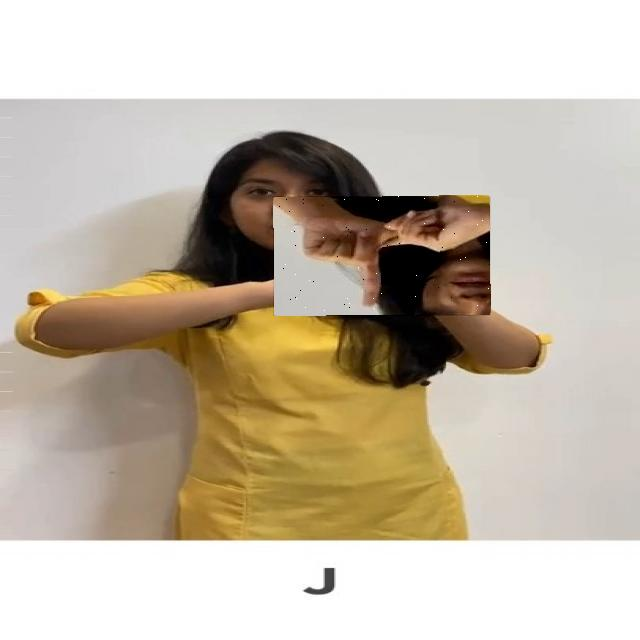J: (273, 196, 491, 316)
